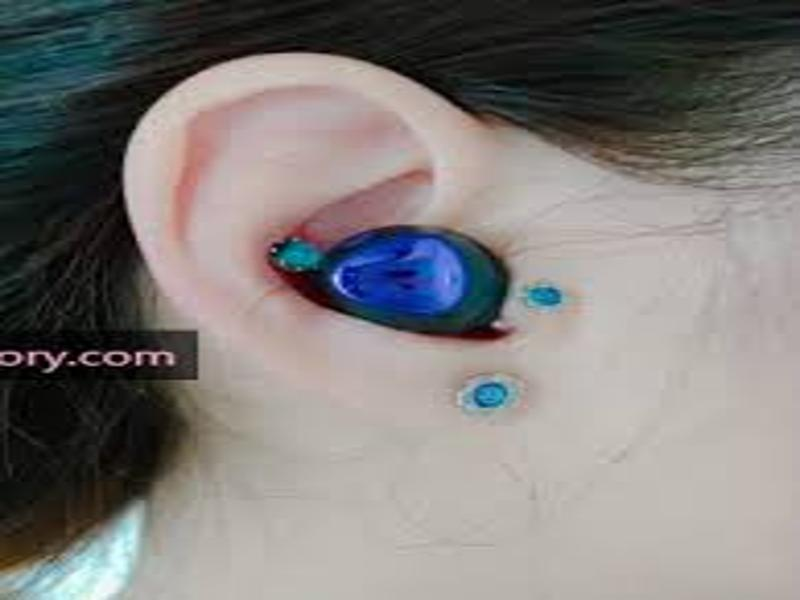headphone: (317, 226, 516, 330)
